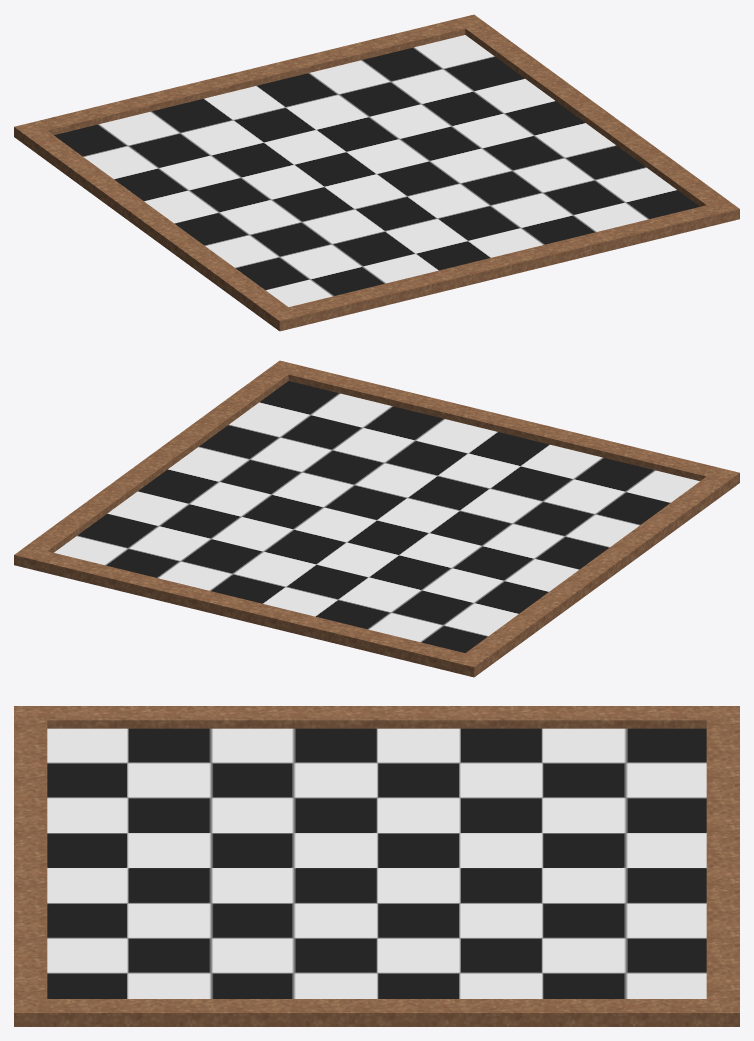
File: Board.fbx
3 views of the same model, one above another, from view 1: azimuth 30°, elevation 25°; view 2: azimuth 150°, elevation 25°; view 3: azimuth 270°, elevation 25° (orthographic). The views are drawn at different scales.
Parts seen in each view (by area): view 1: bhura.001; view 2: bhura.001; view 3: bhura.001.
Part boxes in pixels (box(x1,y1,x2,y2)): bhura.001: box(14, 14, 739, 331); bhura.001: box(14, 360, 739, 677); bhura.001: box(14, 706, 739, 1026).
Size of the model in its own units: 26.26 by 0.5561 by 26.26.
